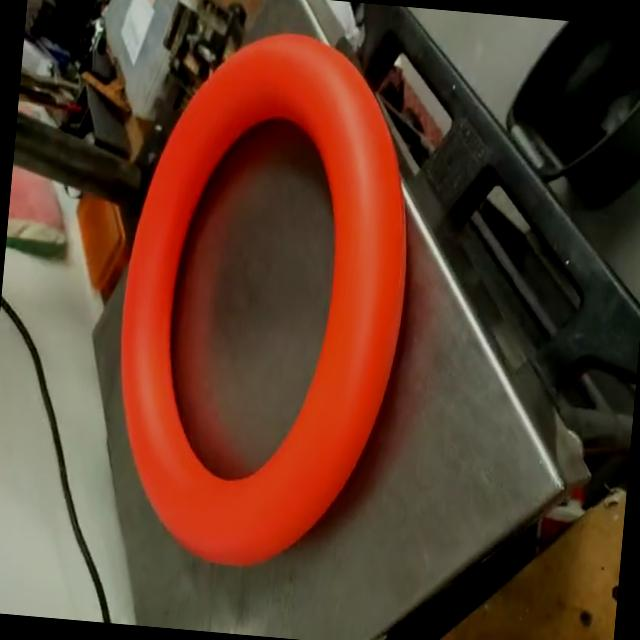note: (100, 17, 428, 585)
